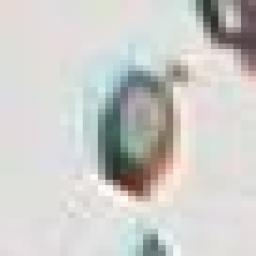crystals: (92, 60, 176, 206)
